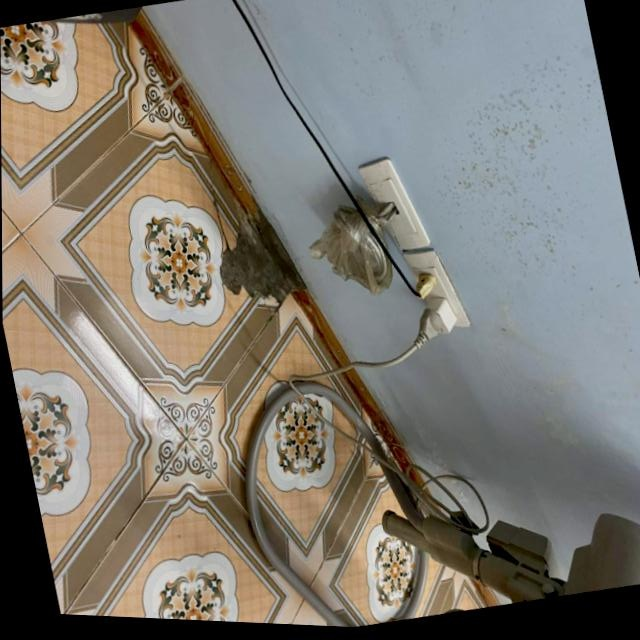outlet: (356, 150, 432, 257), (401, 242, 473, 339)
